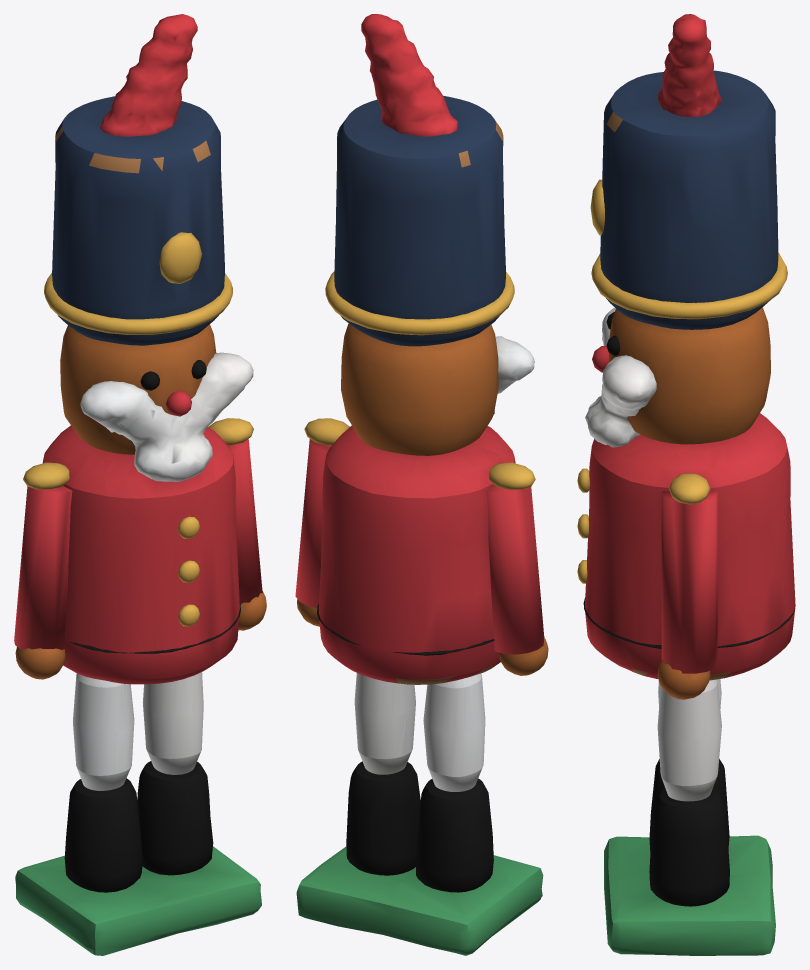
File: frost_nutcracker.glb
3 renders of one model, left to right at view 1: azimuth 30°, elevation 25°; view 2: azimuth 150°, elevation 25°; view 3: azimuth 270°, elevation 25°, orthographic. The views are drawn at different scales.
Parts seen in each view (by area): view 1: frost_nutcracker; view 2: frost_nutcracker; view 3: frost_nutcracker.
Part boxes in pixels (x1=…): frost_nutcracker: x1=14, y1=14, x2=266, y2=955; frost_nutcracker: x1=295, y1=14, x2=548, y2=955; frost_nutcracker: x1=577, y1=14, x2=795, y2=955.
Size of the model in its own units: 11.56 by 40.01 by 8.6.
